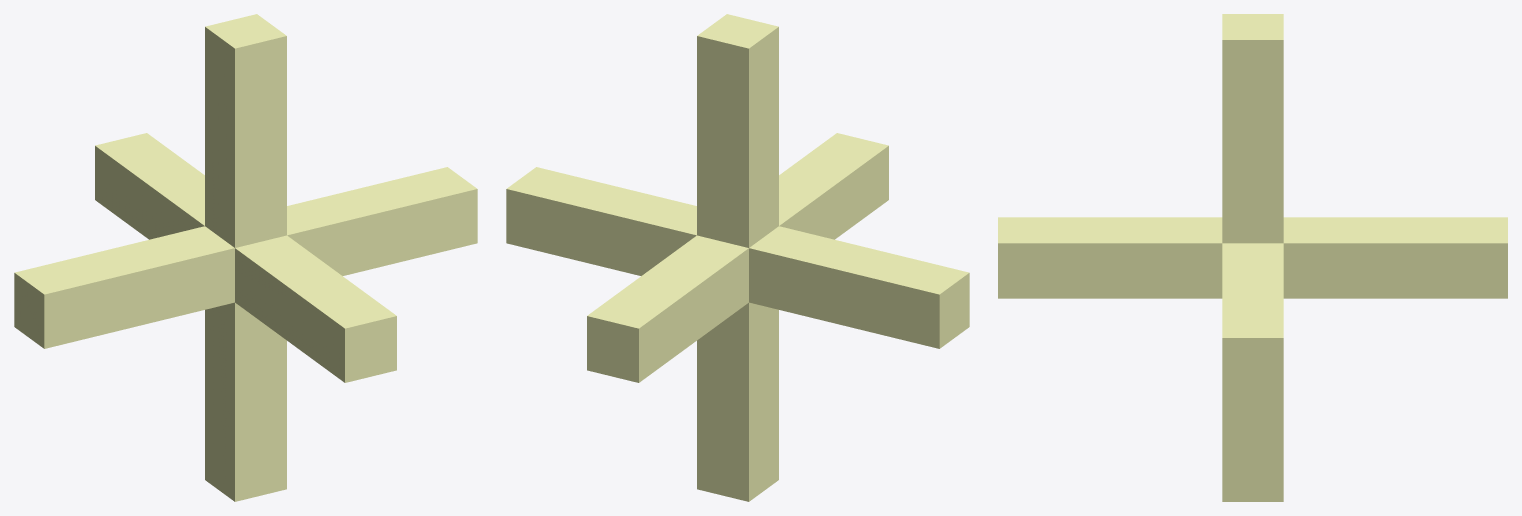
File: spark.glb
3 renders of one model, left to right at view 1: azimuth 30°, elevation 25°; view 2: azimuth 150°, elevation 25°; view 3: azimuth 270°, elevation 25°, orthographic.
Visible parts, largest first — view 1: Ray0, Ray2, Ray1; view 2: Ray0, Ray2, Ray1; view 3: Ray1, Ray0, Ray2.
Boxes of the visible parts, bbox=[...] form: Ray0: bbox=[205, 14, 286, 501]; Ray2: bbox=[14, 167, 477, 348]; Ray1: bbox=[95, 133, 396, 382]; Ray0: bbox=[697, 14, 778, 501]; Ray2: bbox=[506, 167, 969, 348]; Ray1: bbox=[587, 133, 888, 382]; Ray1: bbox=[998, 217, 1507, 298]; Ray0: bbox=[1222, 14, 1283, 501]; Ray2: bbox=[1222, 243, 1283, 393].
Bounding box in the file's own units: 0.5 × 0.5 × 0.5.
